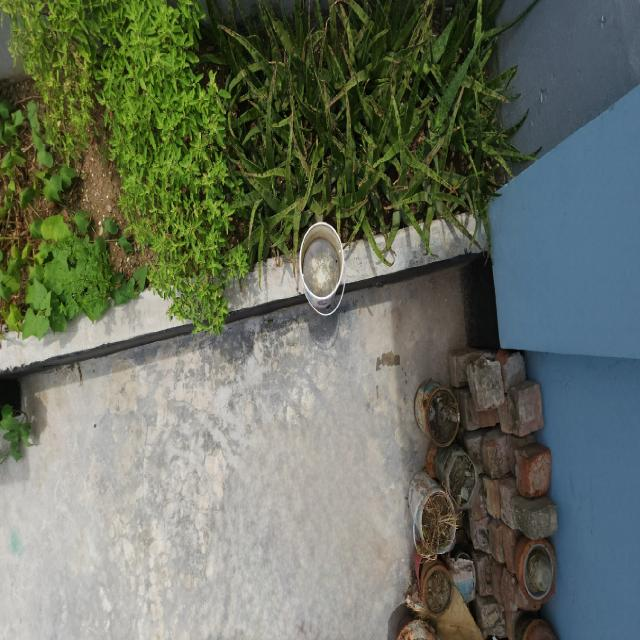Breeding Place: (0, 0, 237, 331), (244, 3, 494, 259), (399, 351, 573, 640), (290, 210, 354, 336)
